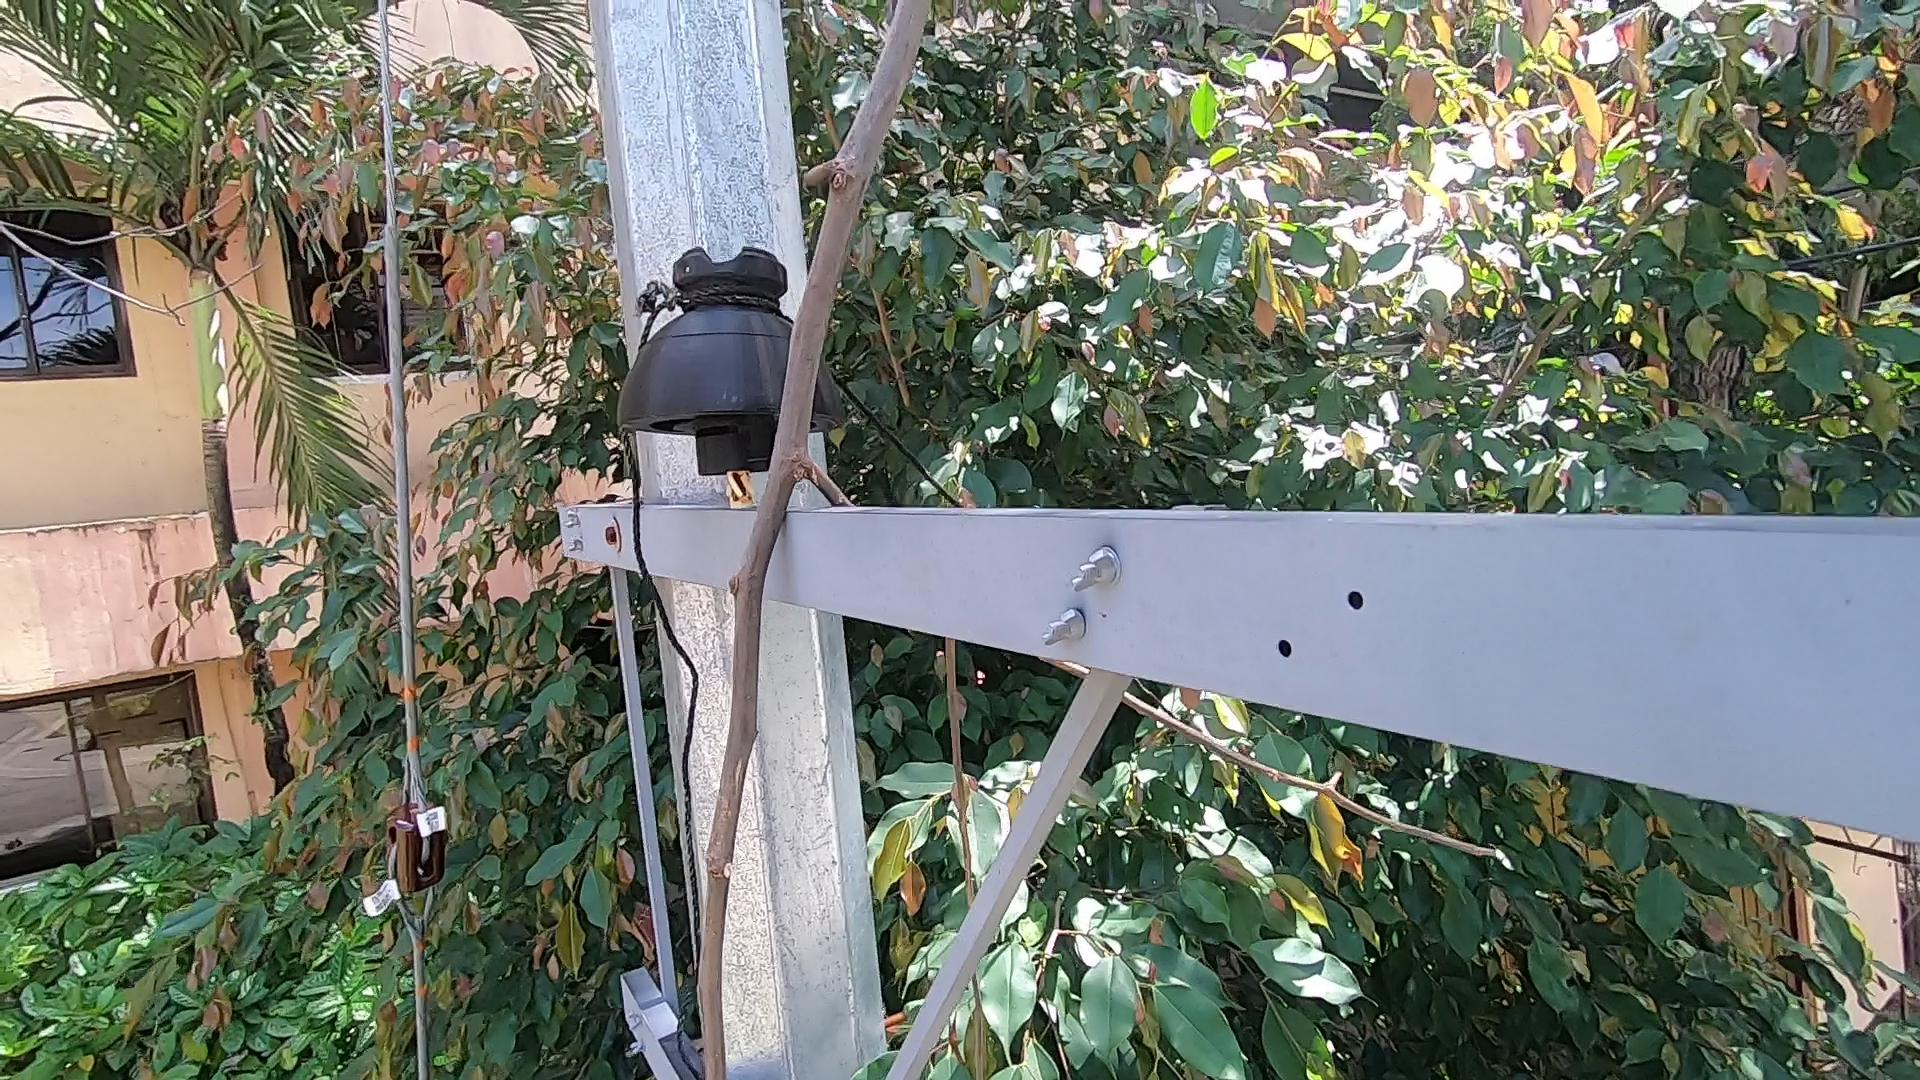tree branch: (576, 3, 989, 1080)
